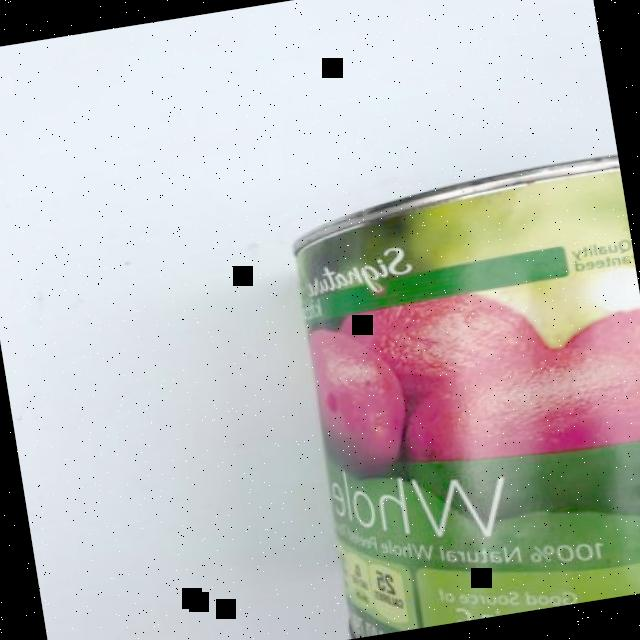can: (261, 145, 640, 640)
